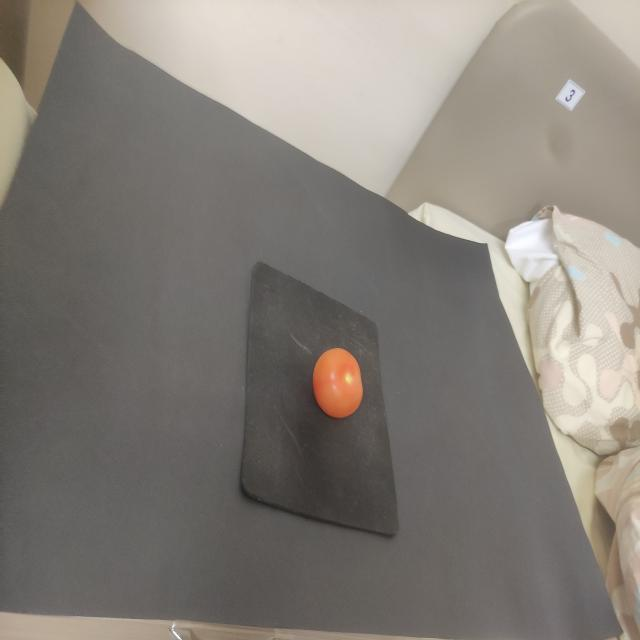sari: (305, 340, 379, 442)
